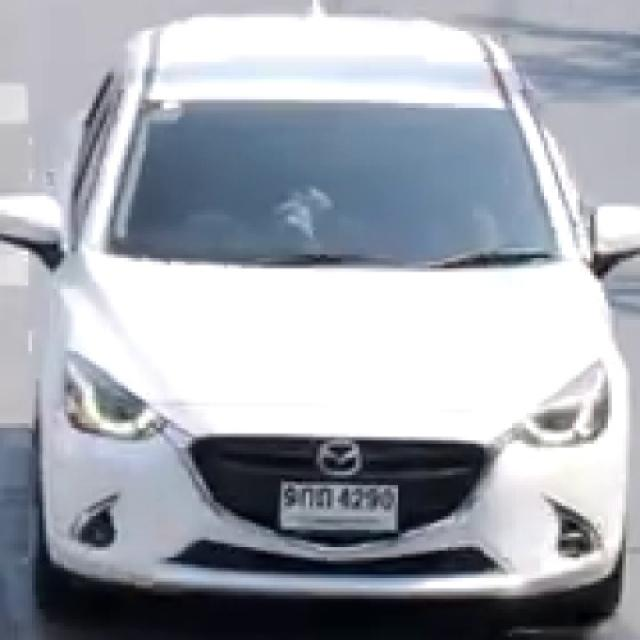plate: (274, 479, 402, 538)
